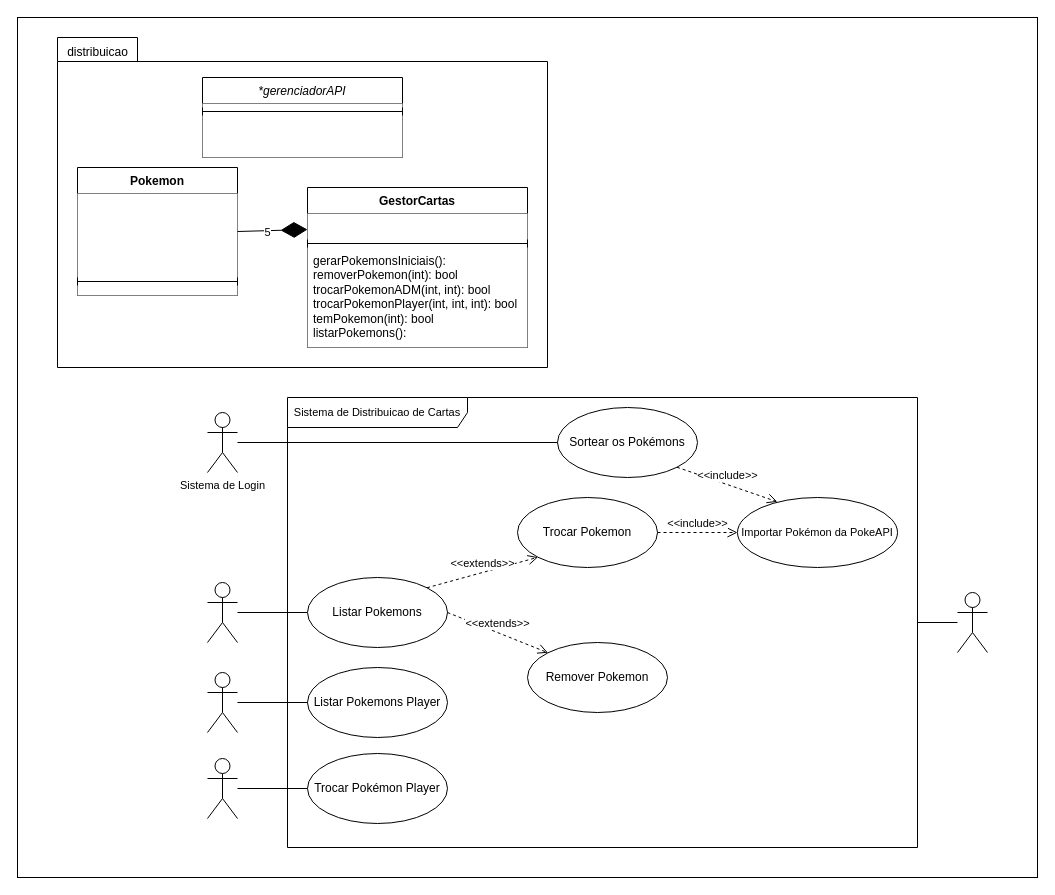
Some shapes in this 1055 by 895 pixel diagram are drawn without their labels. Here are the shapes that lost their labels. From the top down, the centre of each, then its label:
At [302,136]: "conexaoAPI(): getPokemon(int): Pokemon".
At [157,235]: "+ vida: int + tipo: string + dano: int + descricao: string + etc...".
At [417,226]: "- pokemons: Pokemon".
At [222,612]: "ADM".
At [972,622]: "BD".
At [222,702]: "Front".
At [222,788]: "Usuá rio".
